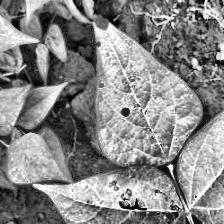ALS: (92, 34, 190, 166), (38, 166, 184, 224), (180, 56, 224, 224)
